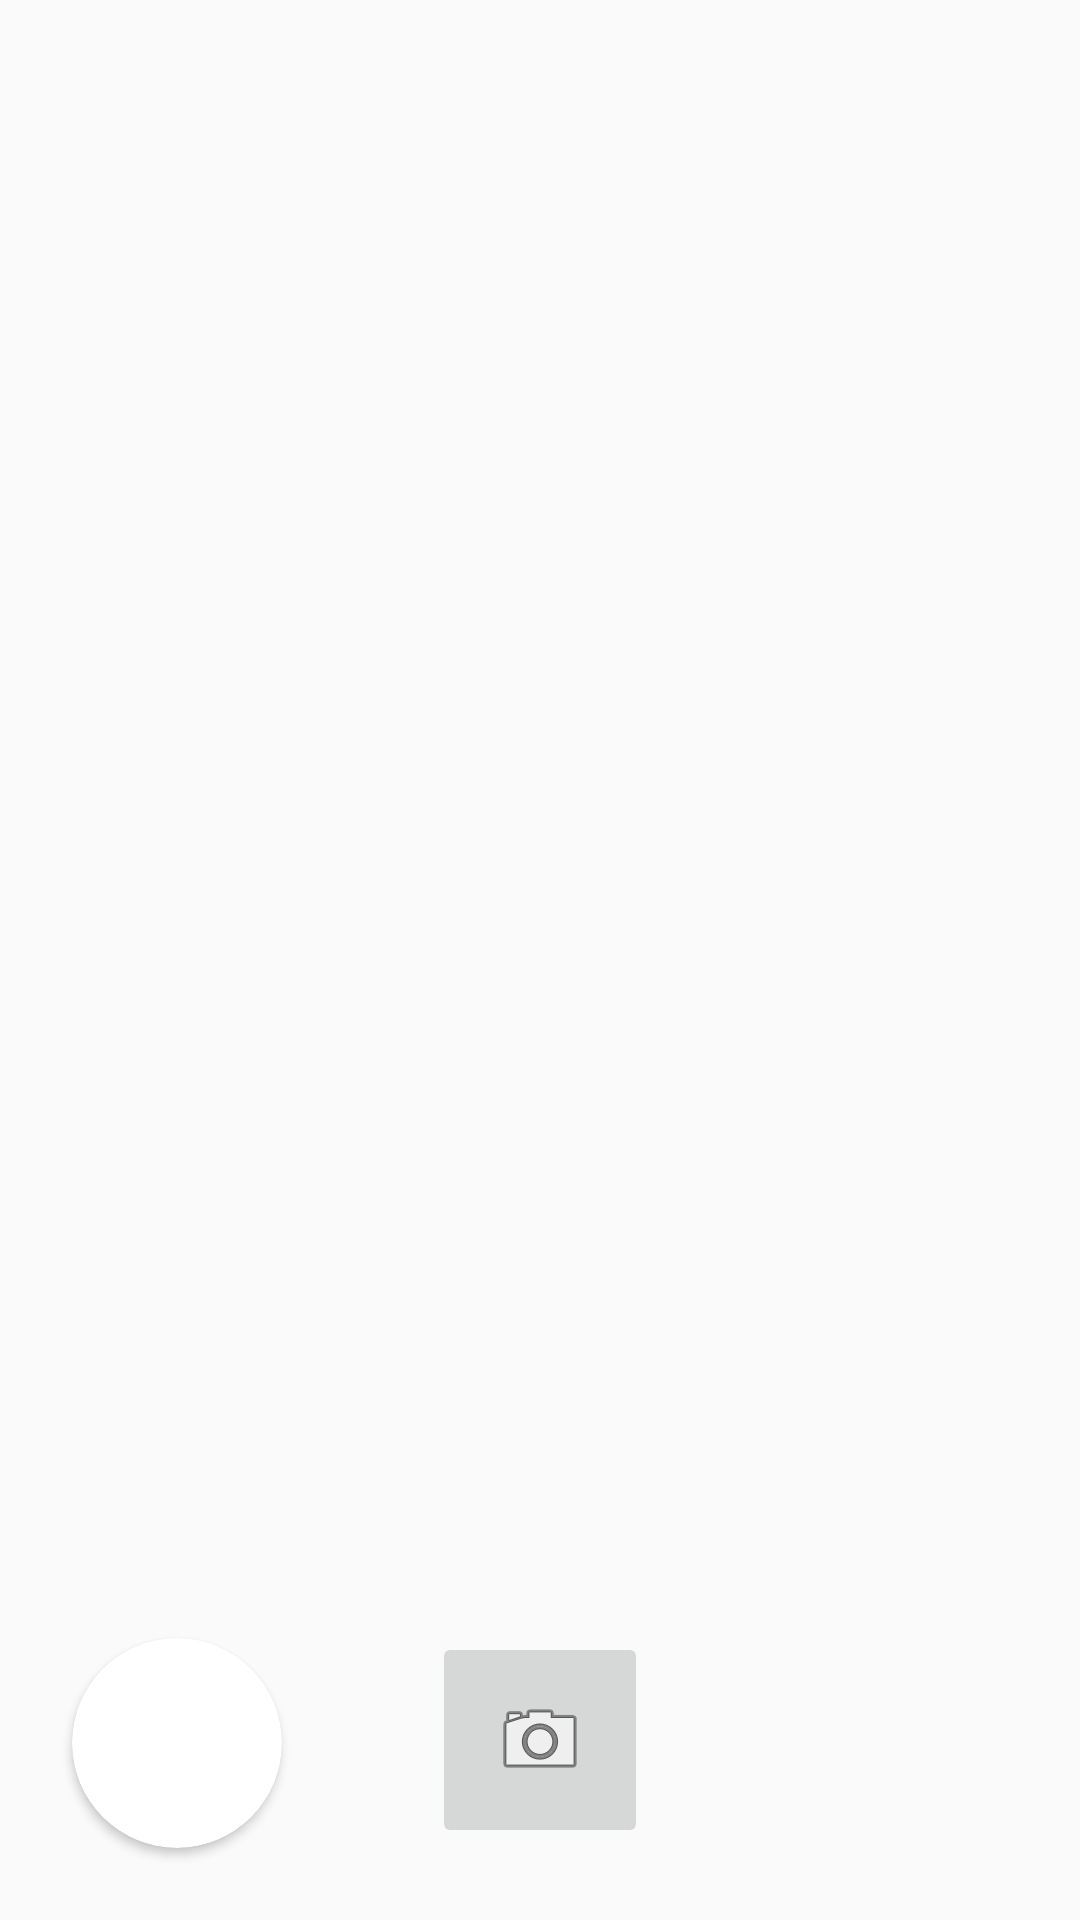

Named icons in this screenshot (1080x1920) and their bounding boxes, [x1,y1,x2,y2]:
camera: [444,1650,636,1830]
